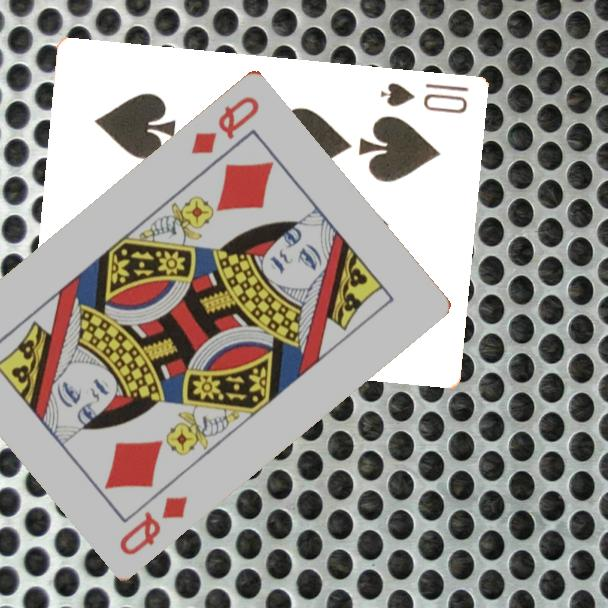d12: (116, 491, 191, 558), (187, 92, 263, 157)
s10: (376, 79, 471, 117)
